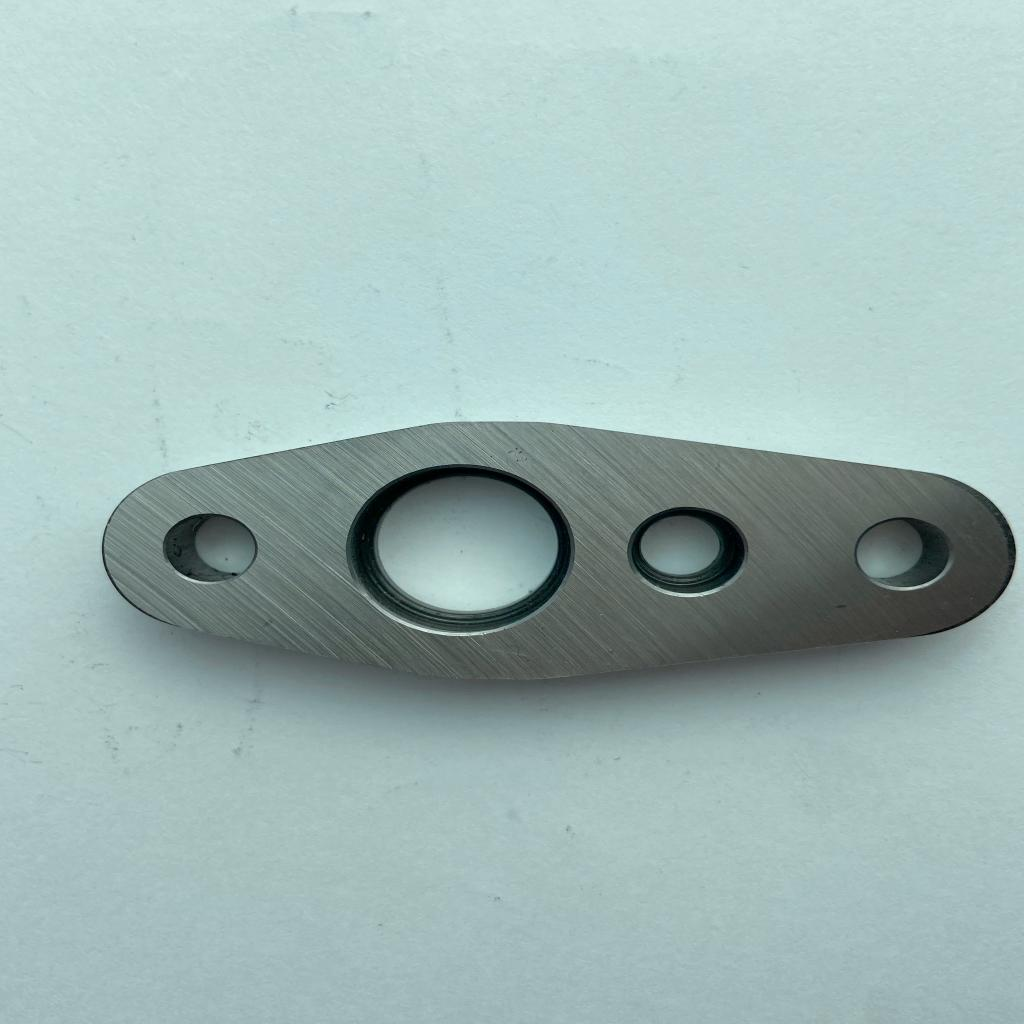chap: (504, 446, 528, 464), (829, 603, 850, 611), (698, 593, 706, 599)
